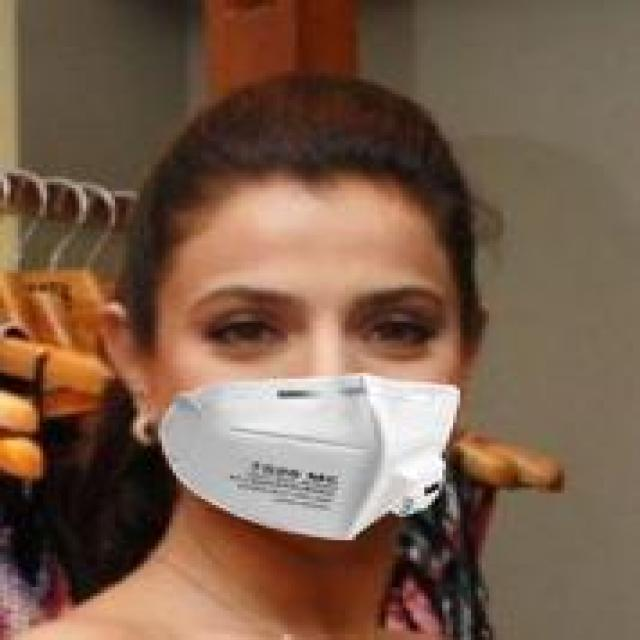mask: (104, 120, 522, 543)
